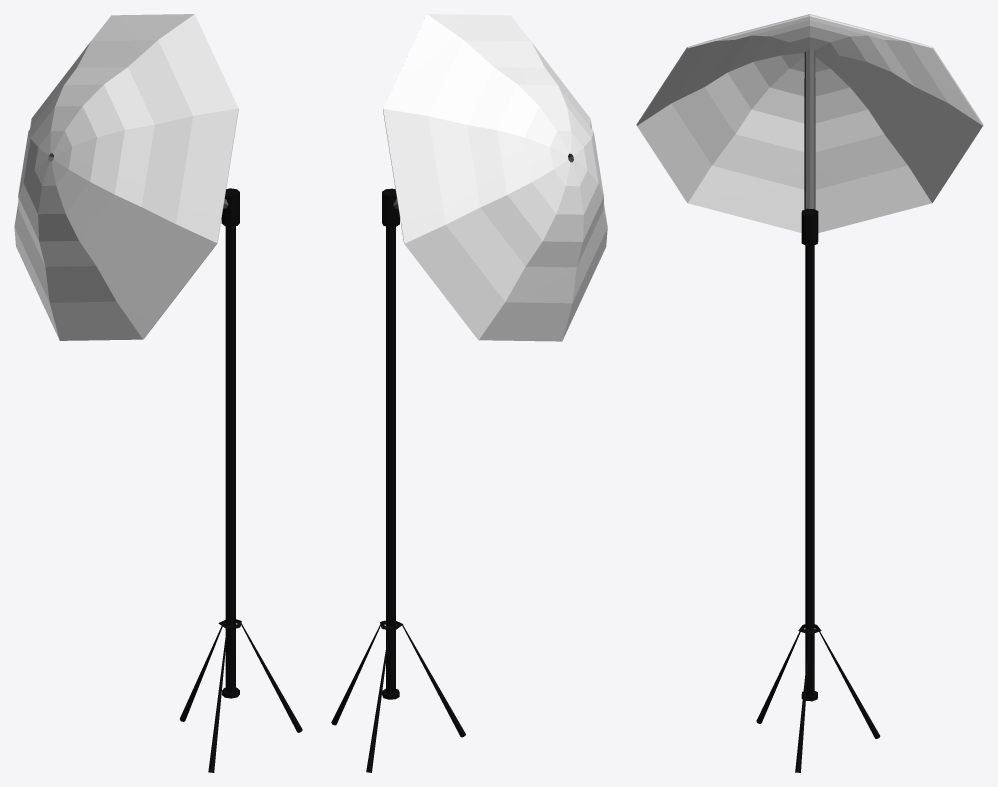
The model's file is Cosa.fbx.
The picture shows the model from 3 angles, left to right: view 1: azimuth 30°, elevation 25°; view 2: azimuth 150°, elevation 25°; view 3: azimuth 270°, elevation 25°; orthographic projection. The views are drawn at different scales.
Parts seen in each view (by area): view 1: Cosa; view 2: Cosa; view 3: Cosa.
Part boxes in pixels (x1,y1,x2,y2): Cosa: (14, 14, 302, 772); Cosa: (331, 14, 607, 772); Cosa: (636, 14, 983, 772).
Bounding box in the file's own units: 6.73 × 18.4 × 8.13.
1 material, 1 textured.
